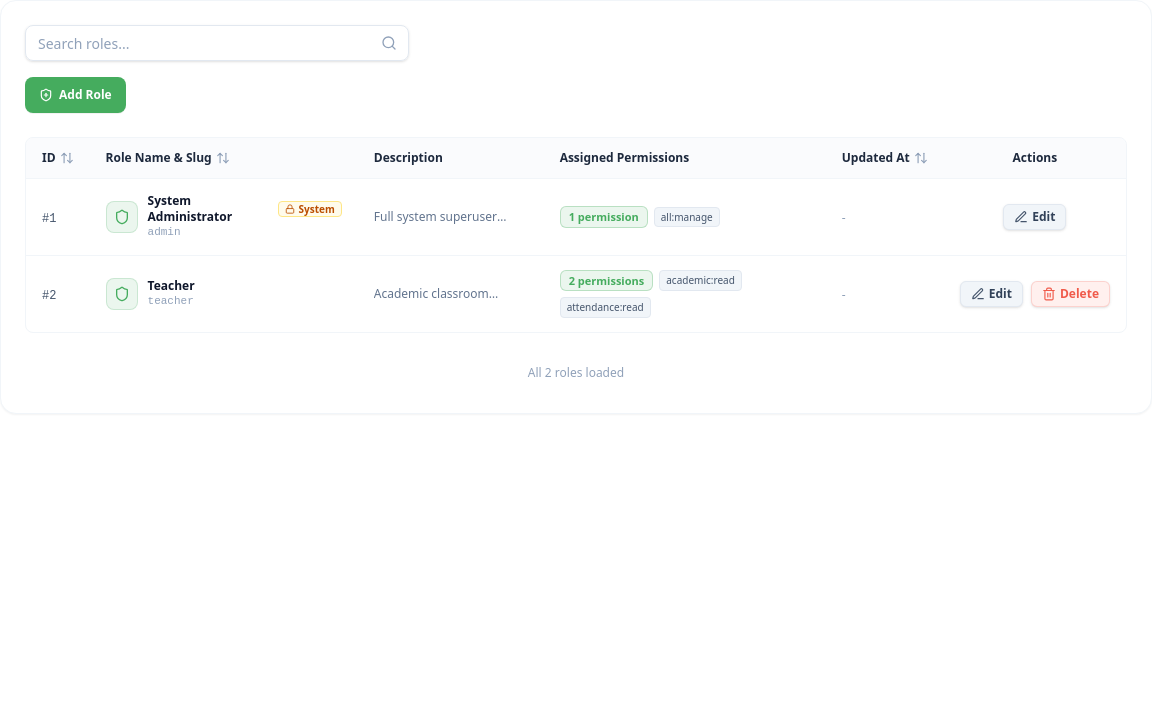
it: RoleListTable › opens Add Role dialog when clicking Add Role button
Click the button "Add Role" at (75, 95), box [25, 77, 126, 113]
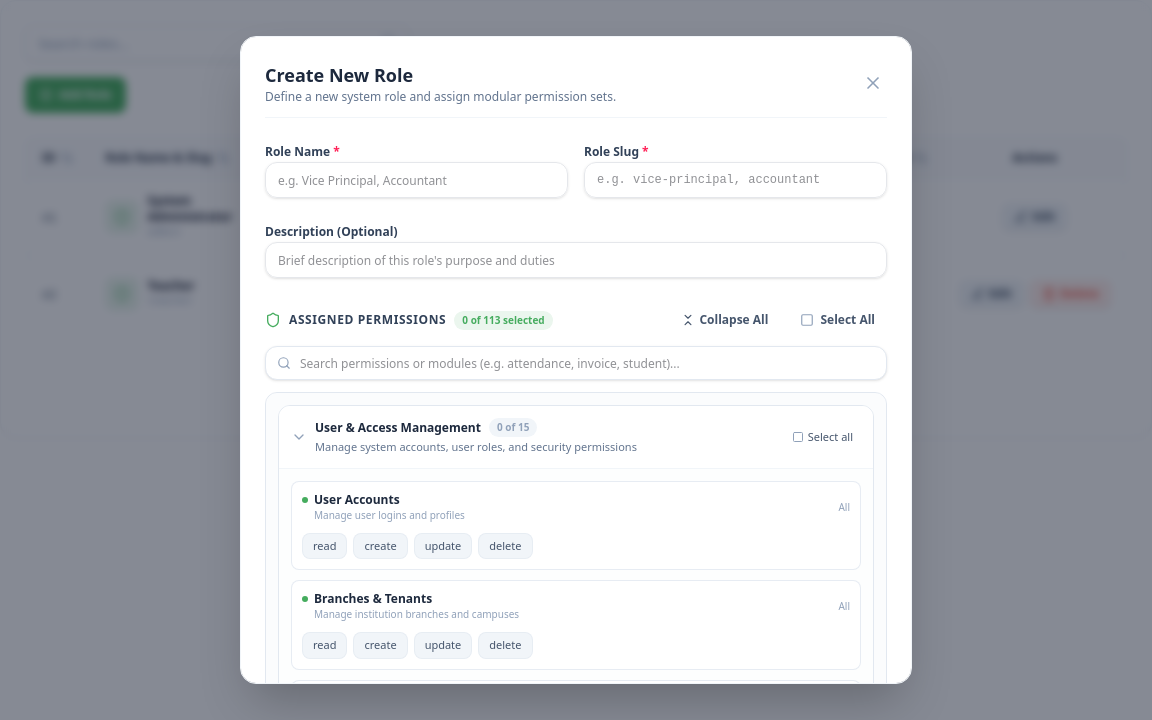
Expected: the heading "Create New Role" is shown, [265, 63, 413, 87]
Expected: the field labelled "Role Name *" is shown, [265, 162, 568, 198]
